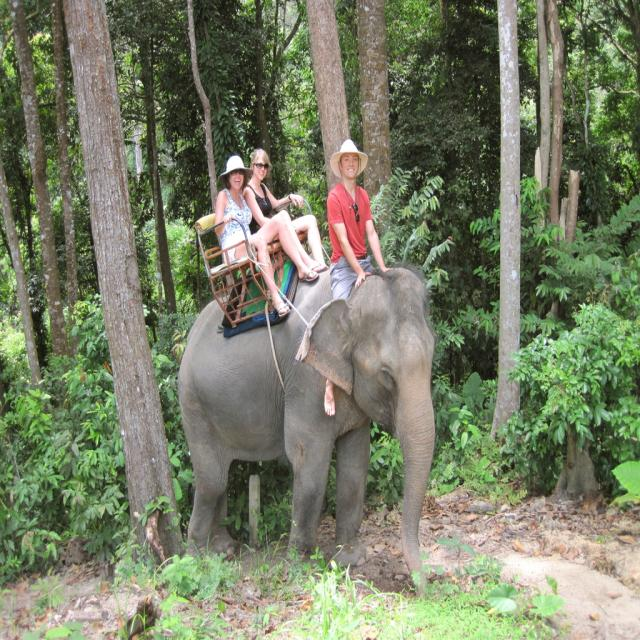Elephant: (176, 259, 436, 593)
person: (323, 138, 393, 417), (214, 154, 291, 318), (243, 148, 329, 284)
